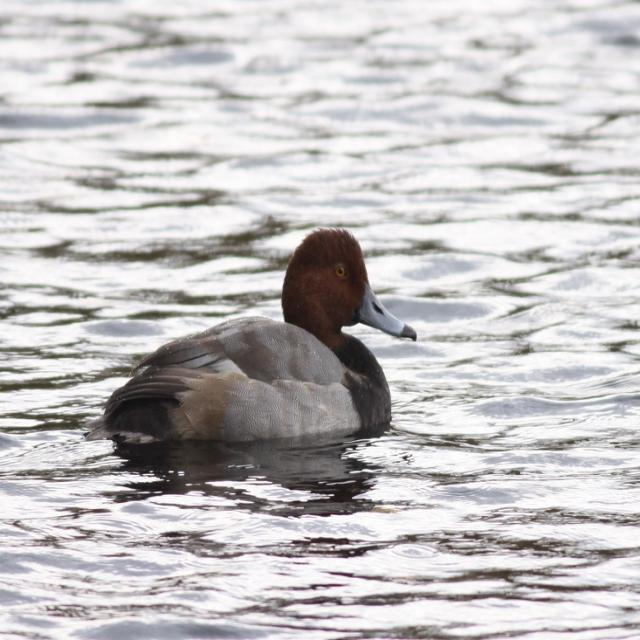bird: (77, 234, 416, 451)
